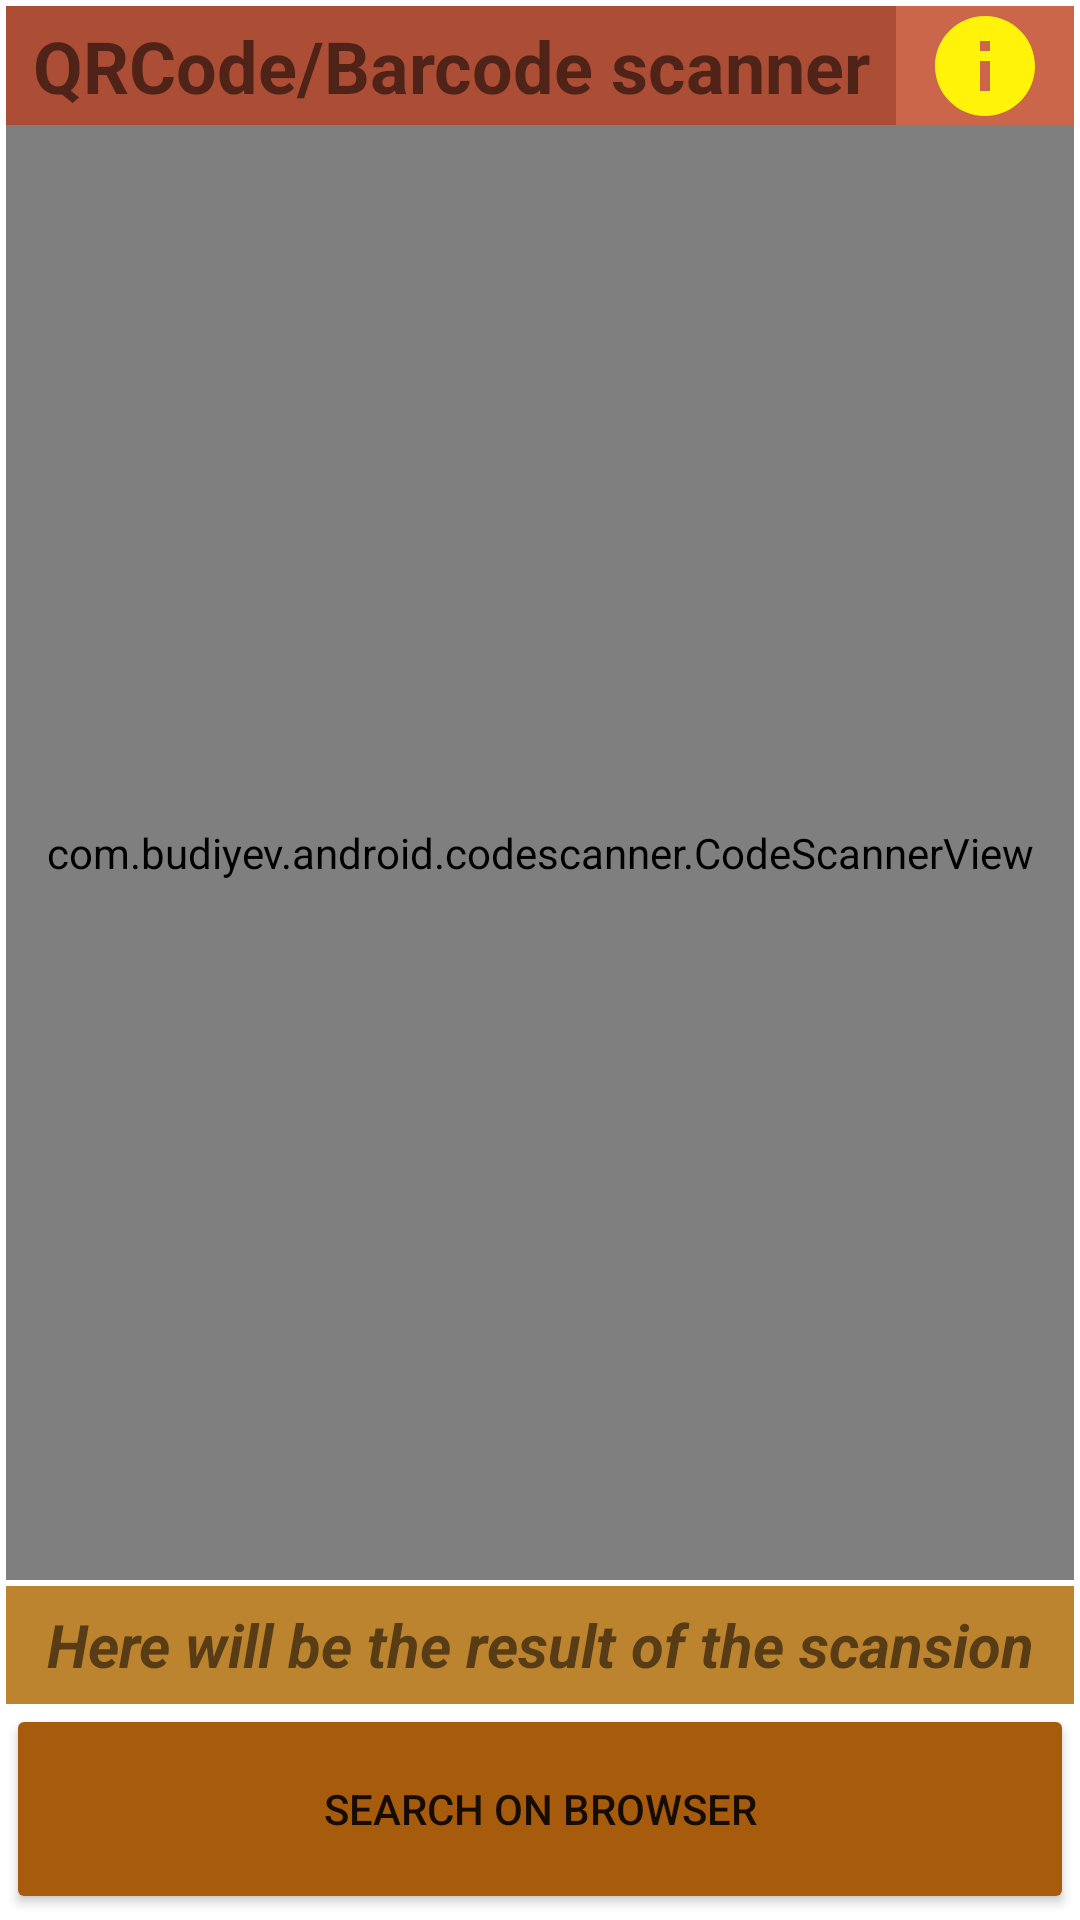

Named icons in this screenshot (1080px x 1920px) and their centers, [x,y]:
info: [985,65]
